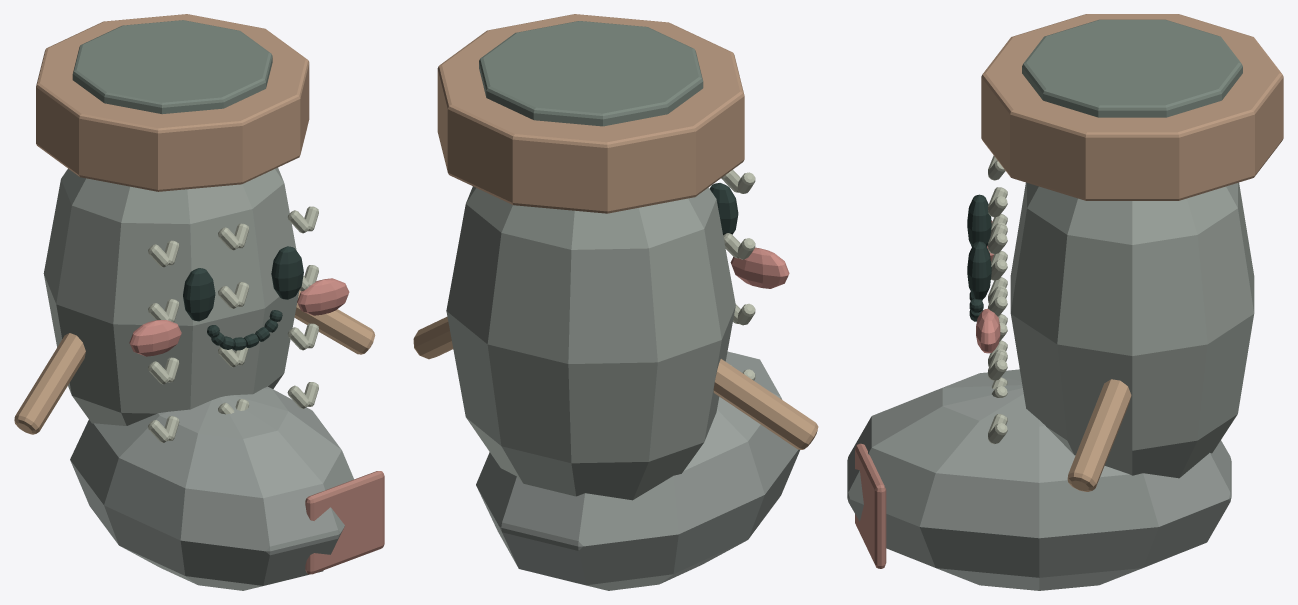
Rendered from sockling.glb.
The picture shows the model from 3 angles, left to right: view 1: azimuth 30°, elevation 25°; view 2: azimuth 150°, elevation 25°; view 3: azimuth 270°, elevation 25°; orthographic projection. The views are drawn at different scales.
Parts seen in each view (by area): view 1: discovery_Head.001_Mesh, discovery_Motion.005_Mesh, discovery_Eyes.001_Mesh; view 2: discovery_Head.001_Mesh, discovery_Motion.005_Mesh, discovery_Eyes.001_Mesh; view 3: discovery_Head.001_Mesh, discovery_Motion.005_Mesh, discovery_Eyes.001_Mesh.
Part boxes in pixels (bbox=[...]): discovery_Head.001_Mesh: bbox=[36, 14, 349, 442]; discovery_Motion.005_Mesh: bbox=[14, 290, 384, 590]; discovery_Eyes.001_Mesh: bbox=[183, 246, 303, 321]; discovery_Head.001_Mesh: bbox=[437, 14, 789, 500]; discovery_Motion.005_Mesh: bbox=[413, 317, 818, 590]; discovery_Eyes.001_Mesh: bbox=[709, 183, 738, 235]; discovery_Head.001_Mesh: bbox=[969, 14, 1283, 478]; discovery_Motion.005_Mesh: bbox=[847, 369, 1231, 590]; discovery_Eyes.001_Mesh: bbox=[967, 194, 991, 299].
Size of the model in its own units: 0.7657 by 0.97 by 0.7503.
